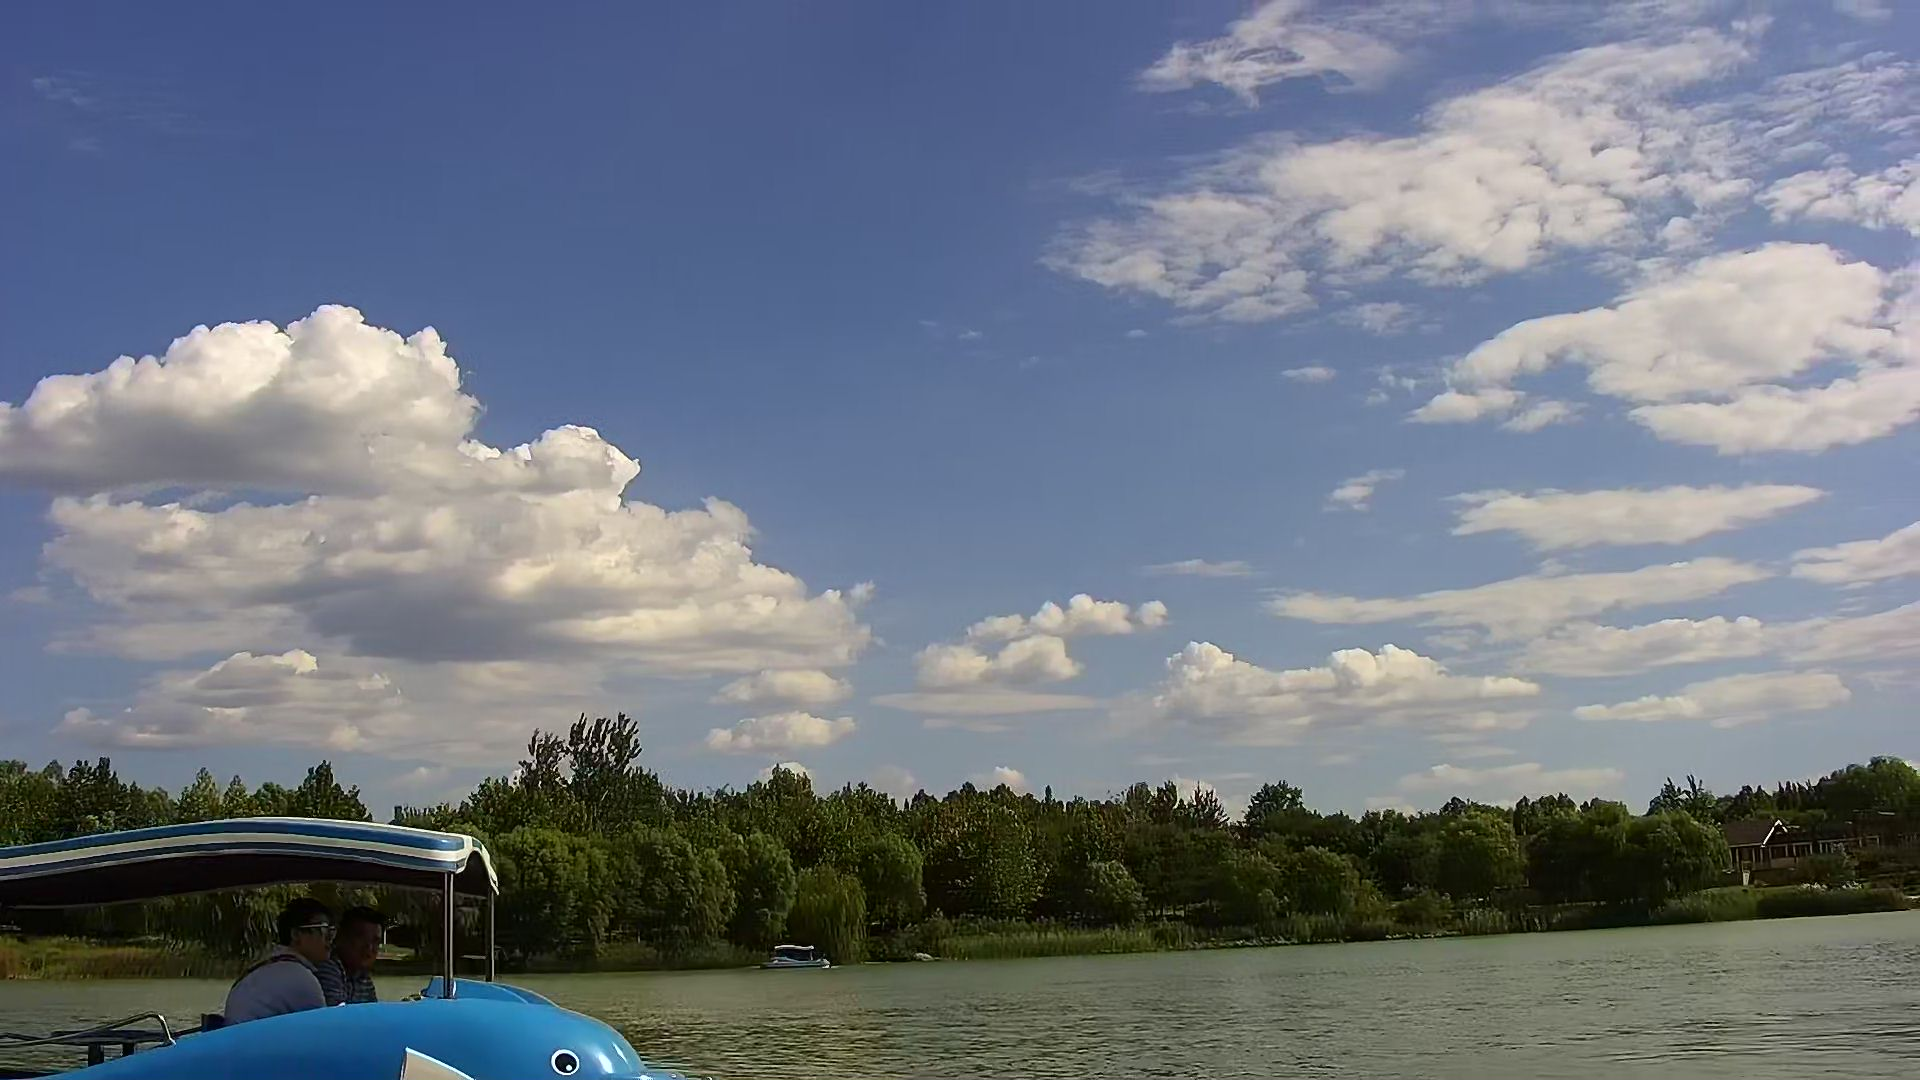boat: (1, 810, 692, 1080), (760, 937, 830, 978)
person: (226, 899, 331, 1030), (311, 906, 391, 1012)
